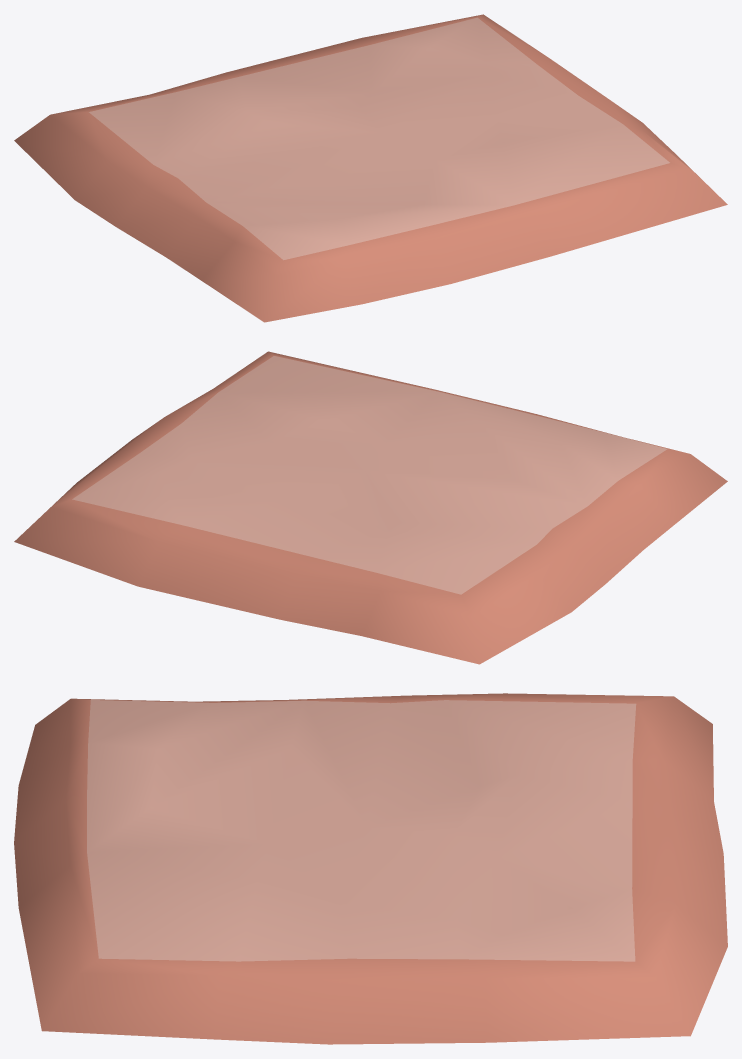
Rendered from ground_004.glb.
The picture shows the model from 3 angles, top to bottom: view 1: azimuth 30°, elevation 25°; view 2: azimuth 150°, elevation 25°; view 3: azimuth 270°, elevation 25°; orthographic projection. The views are drawn at different scales.
Parts seen in each view (by area): view 1: ground_004; view 2: ground_004; view 3: ground_004.
Part boxes in pixels (<box>): ground_004: <box>14,14,727,322</box>; ground_004: <box>14,351,727,664</box>; ground_004: <box>14,693,727,1044</box>.
Bounding box in the file's own units: 20.77 × 1.64 × 18.77.
Materials: 1 (1 with a texture image).
